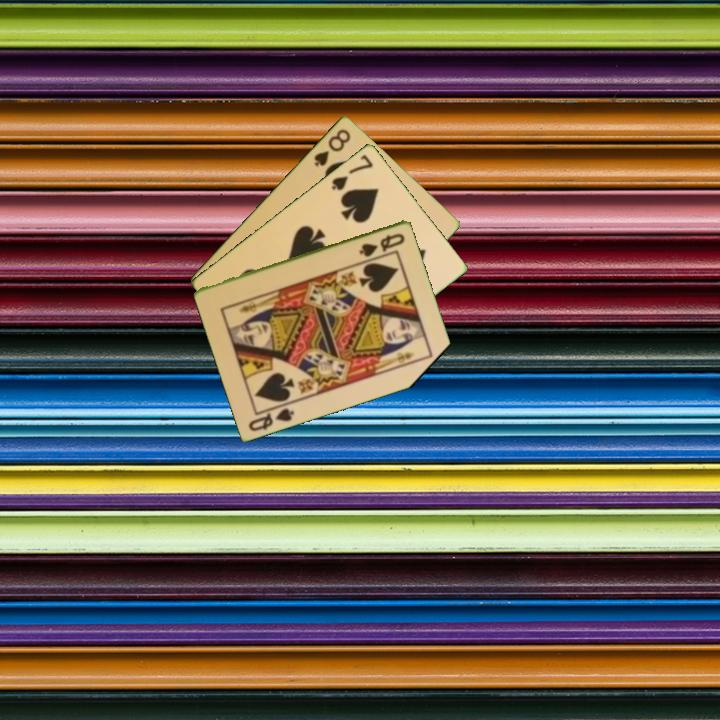7s: (328, 150, 376, 193)
8s: (310, 125, 353, 169)
Qs: (245, 399, 298, 434), (356, 229, 408, 259)
